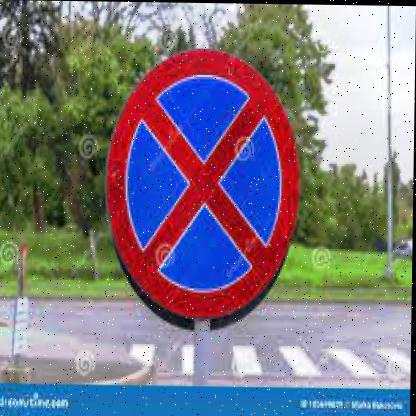No stopping: (105, 43, 305, 331)
